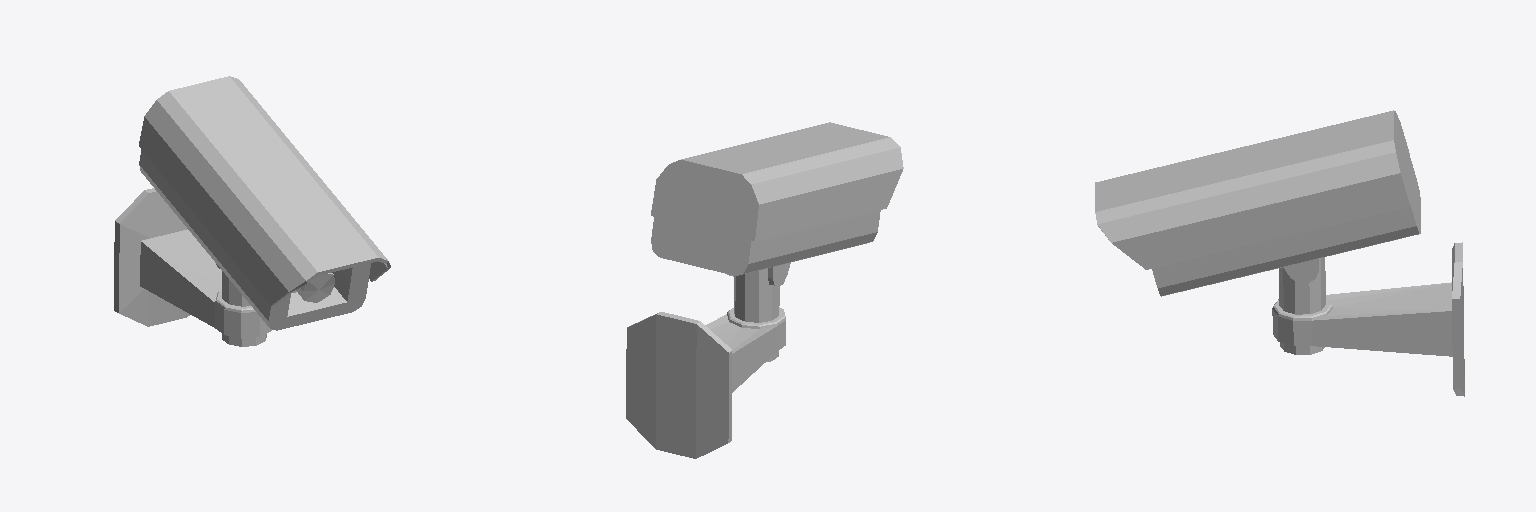
The model's file is Camera.obj.
3 views of the same model, side by side, from view 1: azimuth 30°, elevation 25°; view 2: azimuth 150°, elevation 25°; view 3: azimuth 270°, elevation 25° (orthographic).
Visible parts, largest first — view 1: polySurface26; view 2: polySurface26; view 3: polySurface26.
Part boxes in pixels (x1,y1,x2,y2): polySurface26: (114,76,390,346); polySurface26: (626,122,903,458); polySurface26: (1095,110,1464,396).
Size of the model in its own units: 0.3137 by 0.7511 by 0.9614.